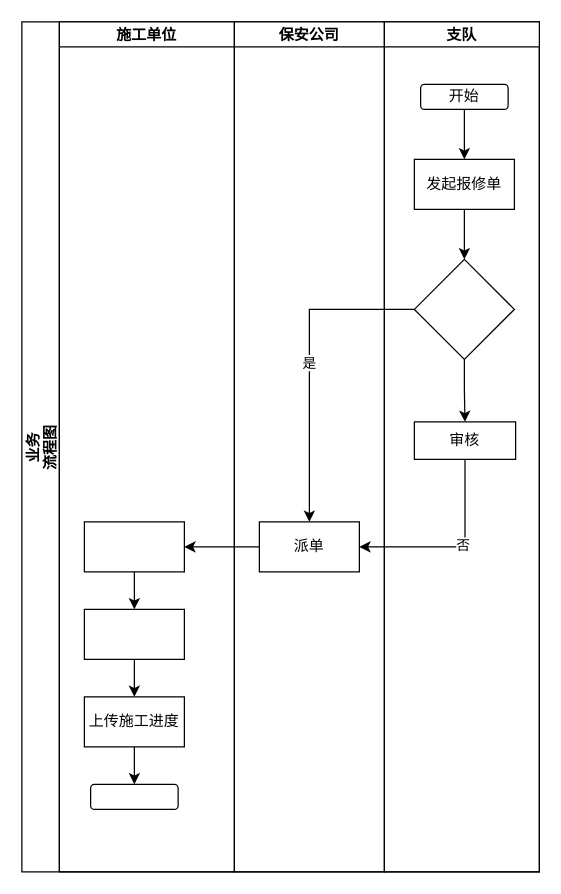
Some shapes in this 561 by 894 pixel diagram are drawn without their labels. The centre of each missing label's shape, as x and y in pixels:
"接单、指派负责人" belongs at [133,546].
"施工" belongs at [133,633].
"是否应急抢修" belongs at [463,308].
"结束" belongs at [133,796].
